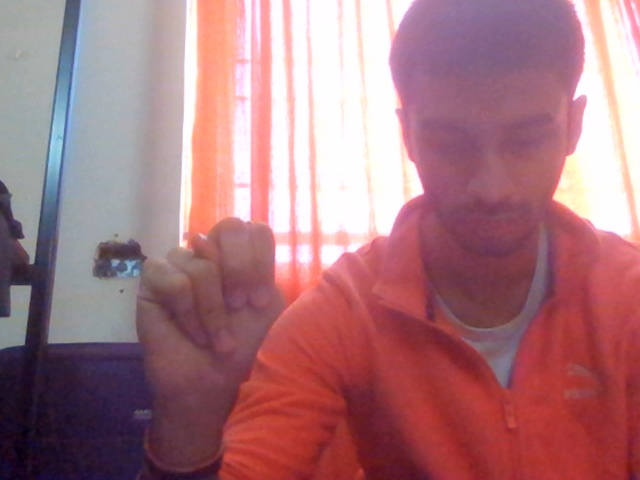N: (119, 191, 315, 427)
